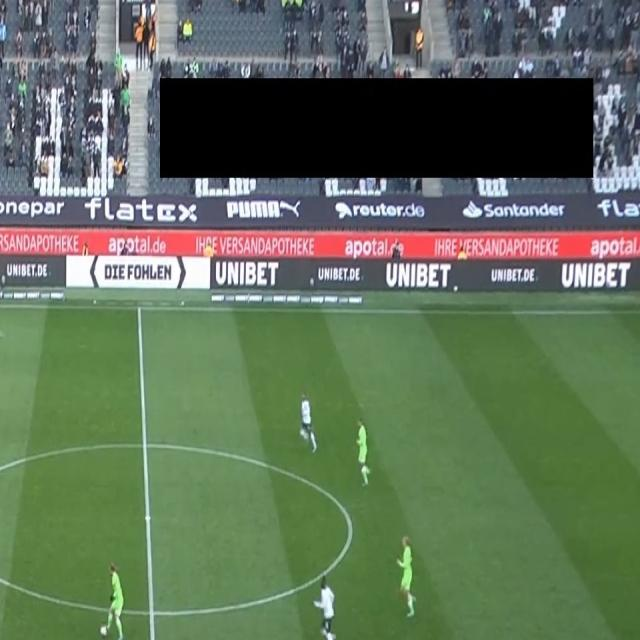ball: (100, 623, 108, 637)
